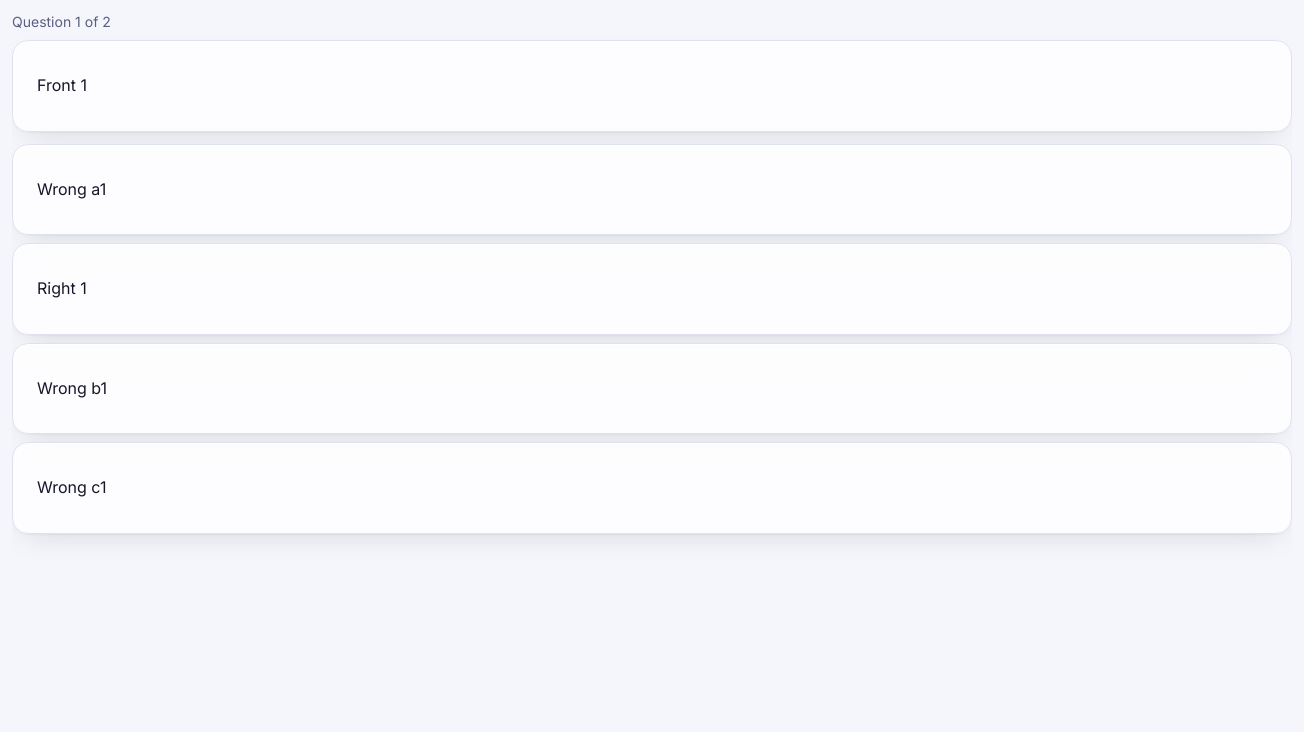
Test case: SpeedGame › says what the answer was after a wrong pick
The image size is (1304, 732).
Click the button "Wrong a1".
click(72, 189)  # box [12,144,1292,235]
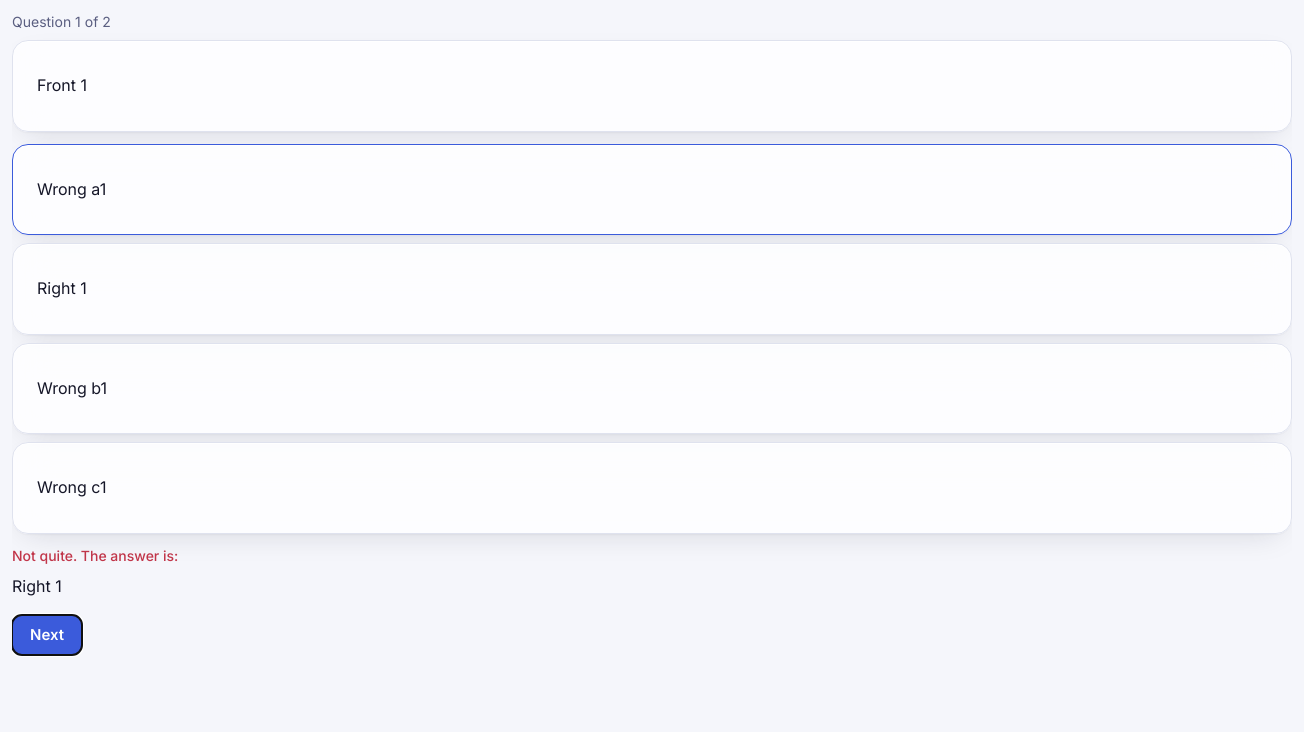
Expected: the 1st text "Right 1" is shown, [37,278,87,298]
Now the text "Not quite. The answer is:" is shown, box [12,547,178,564]
